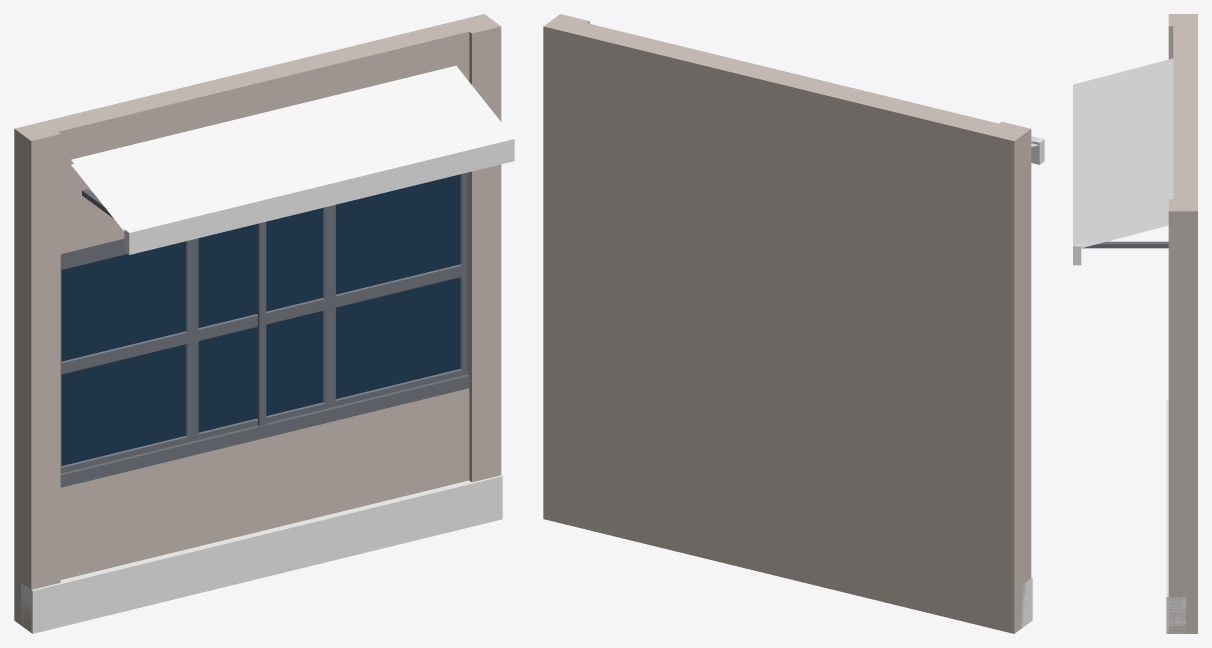
The model's file is mid-w1_close.fbx.
3 views of the same model, side by side, from view 1: azimuth 30°, elevation 25°; view 2: azimuth 150°, elevation 25°; view 3: azimuth 270°, elevation 25° (orthographic). The views are drawn at different scales.
Parts seen in each view (by area): view 1: a1051_mid-w1.001; view 2: a1051_mid-w1.001; view 3: a1051_mid-w1.001.
Part boxes in pixels (box(x1,y1,x2,y2)): a1051_mid-w1.001: box(14, 14, 514, 633); a1051_mid-w1.001: box(543, 14, 1044, 633); a1051_mid-w1.001: box(1073, 14, 1197, 633).
Bounding box in the file's own units: 4 × 4 × 1.07.
